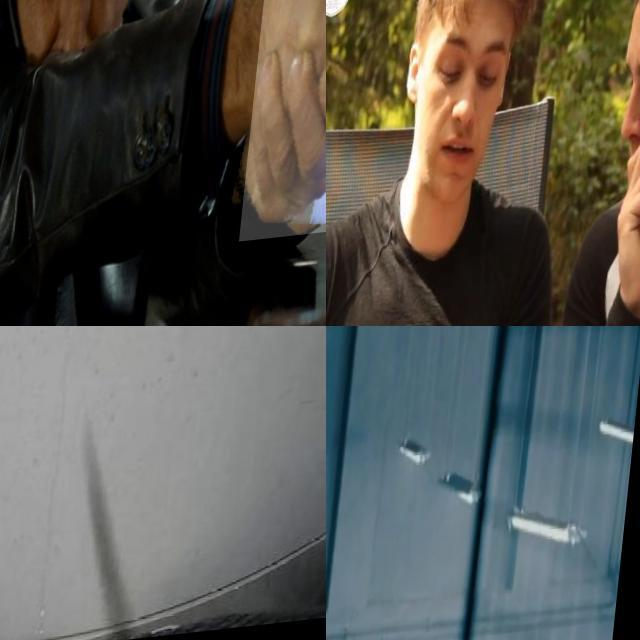-: (87, 326, 299, 385)
gun-knife-thesis - v11 Yolov5 augmented: (326, 337, 395, 640)
